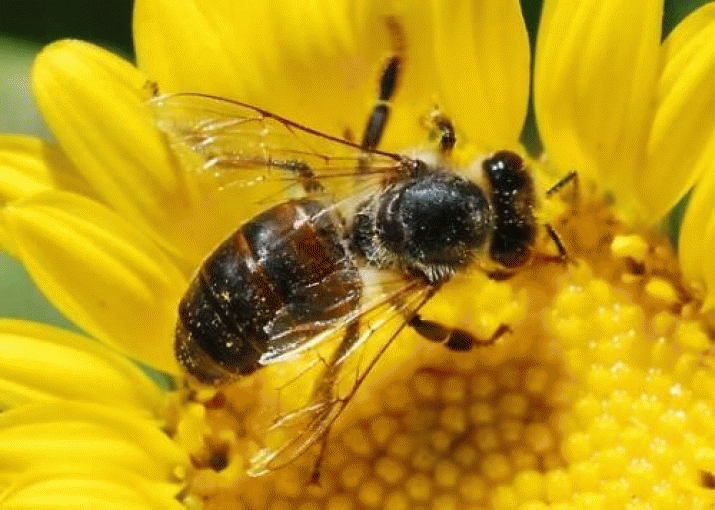bee: (151, 88, 579, 481)
